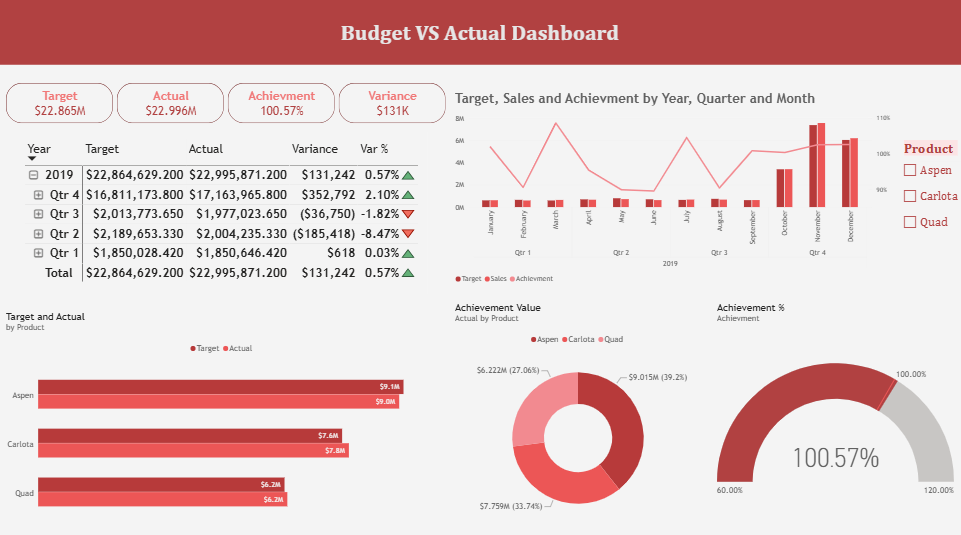

The dashboard page shown, as its layout file describes it:
{"tool":"powerbi","page":{"name":"Dashboard","canvas":[1920,1080],"ordinal":0},"visuals":[{"type":"lineClusteredColumnComboChart","fields":{"Category":["dCalendar.Date.Variation.Date Hierarchy.Year","dCalendar.Date.Variation.Date Hierarchy.Quarter","dCalendar.Date.Variation.Date Hierarchy.Month"],"Y":["Sum(Target.Target)","Sum(Actual.Sales)"],"Y2":["Product.Achievment"]},"box":[894,174.8,903,421.2],"z":0},{"type":"cardVisual","fields":{"Data":["Product.Target","Product.Actual","Product.Achievment","Product.Variance"]},"box":[15.7,174.8,878.3,80.7],"z":1000},{"type":"donutChart","title":"Achievement Value","fields":{"Category":["Product.Product"],"Y":["Product.Actual"]},"box":[894,596,522.1,484],"z":2000},{"type":"gauge","title":"Achievement %","fields":{"Y":["Product.Achievment"]},"box":[1416.1,596,504.1,484],"z":3000},{"type":"textbox","box":[0,0,1920.2,138.9],"z":5000},{"type":"slicer","fields":{"Values":["Product.Product"]},"box":[1797,289,123.2,190.5],"z":6000},{"type":"clusteredBarChart","fields":{"Category":["Product.Product"],"Y":["Product.Target","Product.Actual"]},"box":[0,613.9,894,466.1],"z":6001},{"type":"pivotTable","fields":{"Rows":["dCalendar.Date.Variation.Date Hierarchy.Year","dCalendar.Date.Variation.Date Hierarchy.Quarter","dCalendar.Date.Variation.Date Hierarchy.Month"],"Values":["Product.Target","Product.Actual","Product.Variance","Product.Var %"]},"box":[38.1,273.4,817.8,322.7],"z":6002}]}

Visuals, with their boxes in screenshot pixels (x1, y1, x2, y2), scaled from the page's 1920x1080 canvas onto the 961x535 screenshot:
lineClusteredColumnComboChart - dCalendar.Date.Variation.Date Hierarchy.Year x dCalendar.Date.Variation.Date Hierarchy.Quarter: left=447, top=87, right=899, bottom=295
cardVisual - Product.Target x Product.Actual: left=8, top=87, right=447, bottom=127
"Achievement Value" donutChart: left=447, top=295, right=709, bottom=534
"Achievement %" gauge: left=709, top=295, right=960, bottom=534
textbox: left=0, top=0, right=960, bottom=69
slicer - Product.Product: left=899, top=143, right=960, bottom=238
clusteredBarChart - Product.Product x Product.Target: left=0, top=304, right=447, bottom=534
pivotTable - dCalendar.Date.Variation.Date Hierarchy.Year x dCalendar.Date.Variation.Date Hierarchy.Quarter: left=19, top=135, right=428, bottom=295
